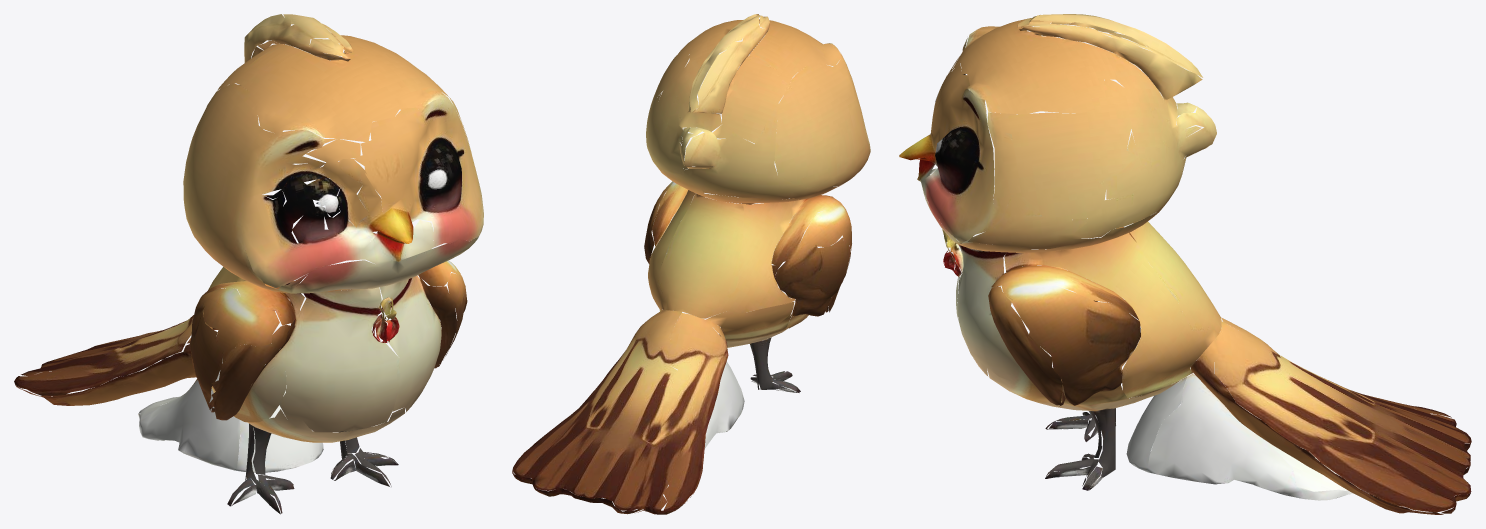
Rendered from nihan.glb.
3 renders of one model, left to right at view 1: azimuth 30°, elevation 25°; view 2: azimuth 150°, elevation 25°; view 3: azimuth 270°, elevation 25°, orthographic. The views are drawn at different scales.
Visible parts, largest first — view 1: geometry_0; view 2: geometry_0; view 3: geometry_0.
Part boxes in pixels (x1,y1,x2,y2): geometry_0: (14,14,483,514); geometry_0: (512,14,870,514); geometry_0: (899,14,1471,514).
Size of the model in its own units: 0.4808 by 0.8951 by 1.
1 material, 1 textured.
